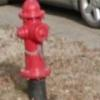a fire hydrant: (16, 0, 48, 81)
cars: (63, 0, 99, 31)
